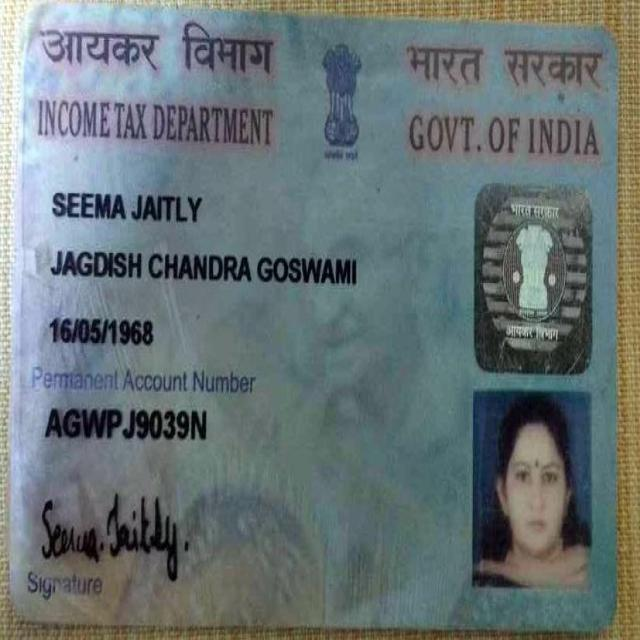pan_card: (24, 12, 609, 620)
